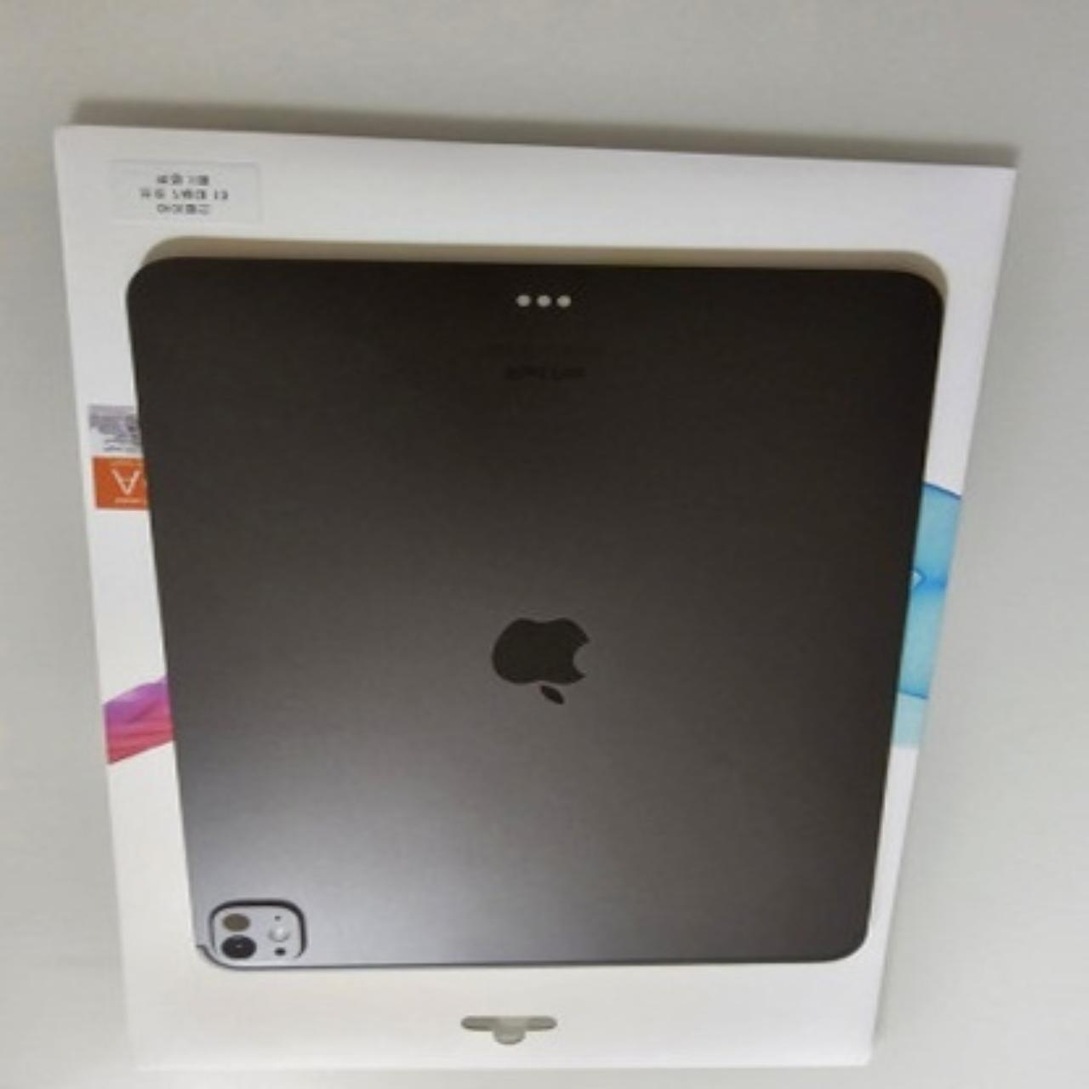Tablet_PC: (120, 233, 965, 982)
